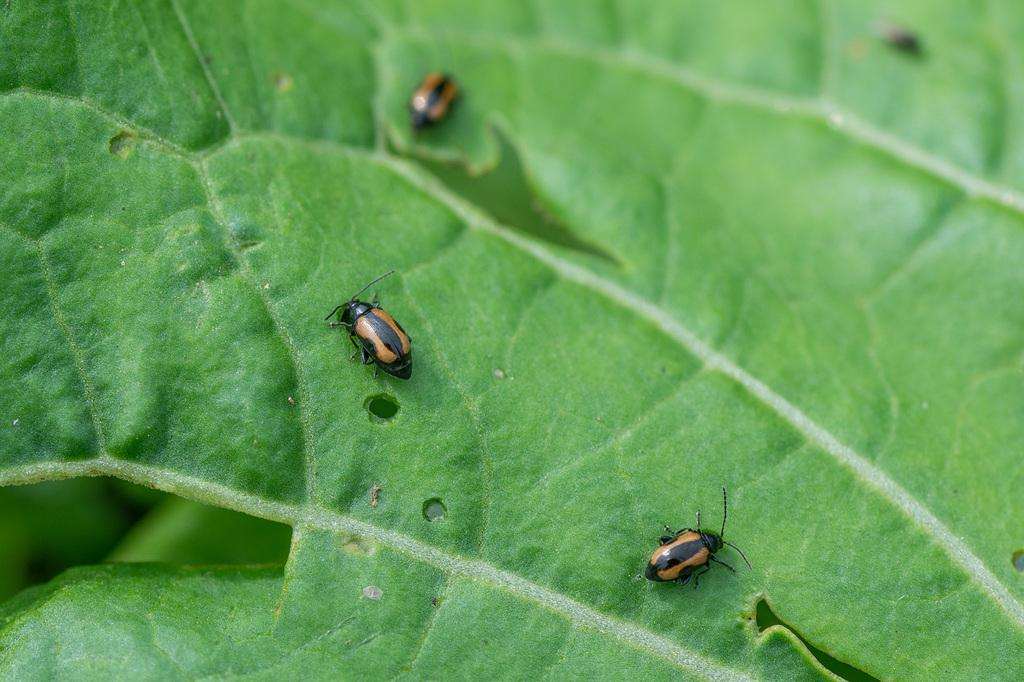flea_beetle: (627, 463, 769, 612), (305, 256, 441, 396), (391, 47, 474, 149)
